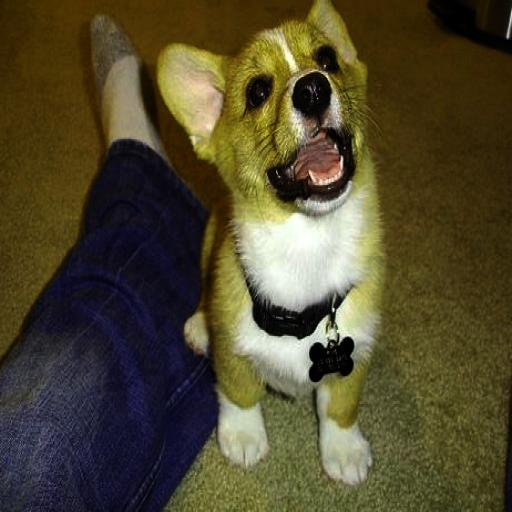dog_face: (157, 0, 376, 215)
